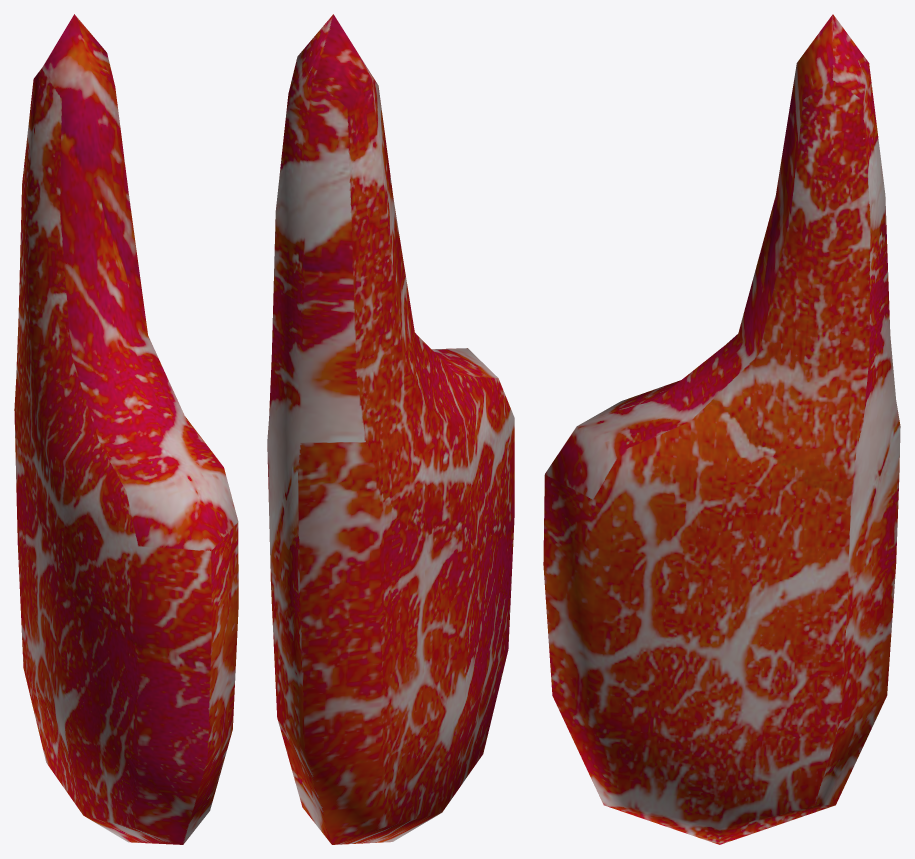
The model's file is Steak.fbx.
The picture shows the model from 3 angles, left to right: view 1: azimuth 30°, elevation 25°; view 2: azimuth 150°, elevation 25°; view 3: azimuth 270°, elevation 25°; orthographic projection. The views are drawn at different scales.
Parts seen in each view (by area): view 1: Cube.034; view 2: Cube.034; view 3: Cube.034.
Part boxes in pixels (x1=…): Cube.034: x1=14, y1=14, x2=238, y2=844; Cube.034: x1=267, y1=14, x2=514, y2=844; Cube.034: x1=543, y1=14, x2=900, y2=844.
Bounding box in the file's own units: 16.33 × 89.16 × 34.72.
1 material, 1 textured.
